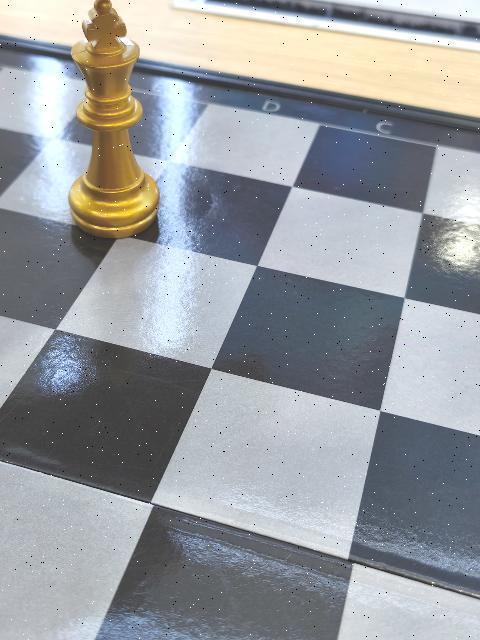black_king: (66, 2, 158, 233)
